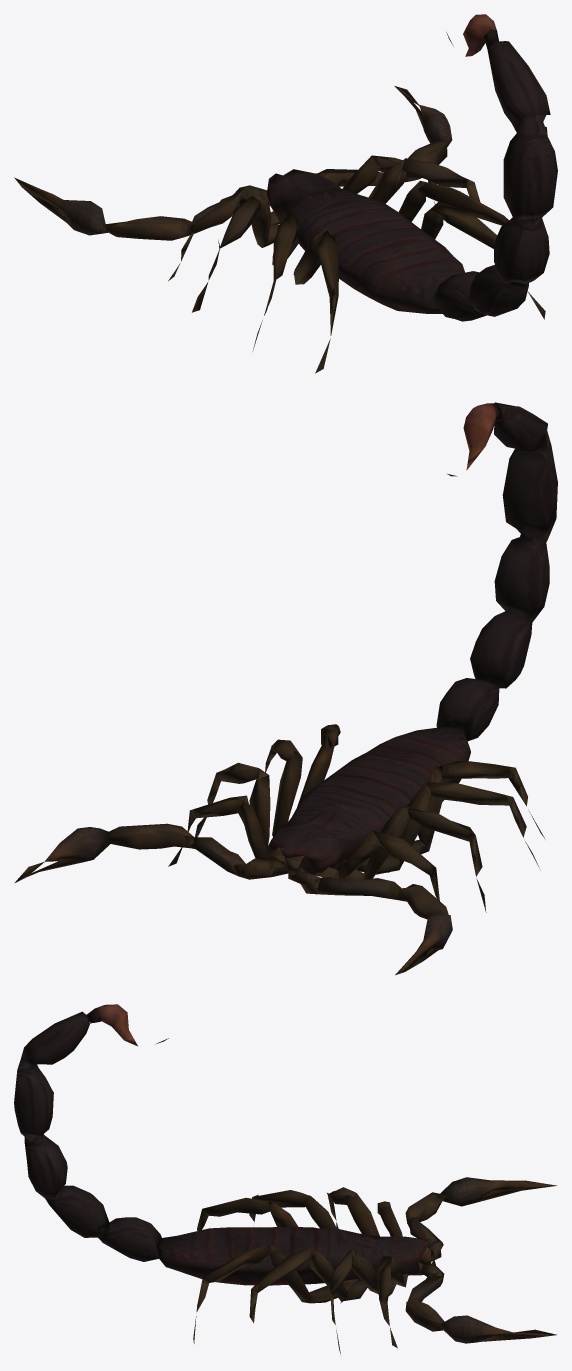
Rendered from scorpio.glb.
3 views of the same model, one above another, from view 1: azimuth 30°, elevation 25°; view 2: azimuth 150°, elevation 25°; view 3: azimuth 270°, elevation 25° (orthographic). The views are drawn at different scales.
Visible parts, largest first — view 1: Scorpio; view 2: Scorpio; view 3: Scorpio.
Boxes of the visible parts, x1=… form: Scorpio: x1=14, y1=14, x2=557, y2=373; Scorpio: x1=15, y1=402, x2=557, y2=975; Scorpio: x1=14, y1=1004, x2=556, y2=1354.
Bounding box in the file's own units: 4.79 × 4.39 × 7.33.
1 material, 1 textured.
